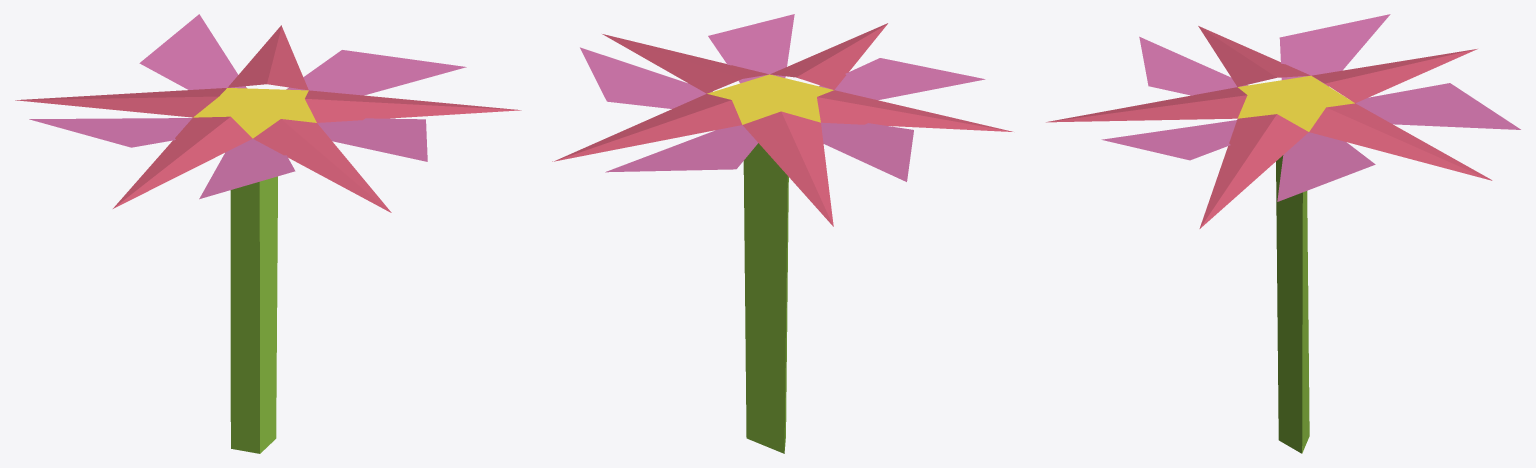
Rendered from flower_rose_flat.fbx.
3 views of the same model, side by side, from view 1: azimuth 30°, elevation 25°; view 2: azimuth 150°, elevation 25°; view 3: azimuth 270°, elevation 25° (orthographic).
Parts seen in each view (by area): view 1: flower_rose_flat; view 2: flower_rose_flat; view 3: flower_rose_flat.
Boxes of the visible parts, left/top/right/bottom form: flower_rose_flat: left=15, top=14, right=521, bottom=453; flower_rose_flat: left=552, top=14, right=1012, bottom=453; flower_rose_flat: left=1046, top=14, right=1520, bottom=453.
Size of the model in its own units: 15.89 by 12.84 by 15.89.
